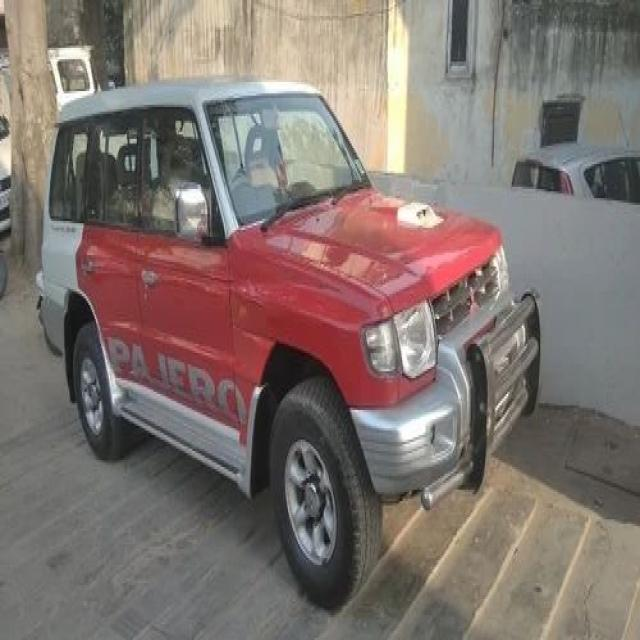light_vehicle: (34, 76, 542, 610)
